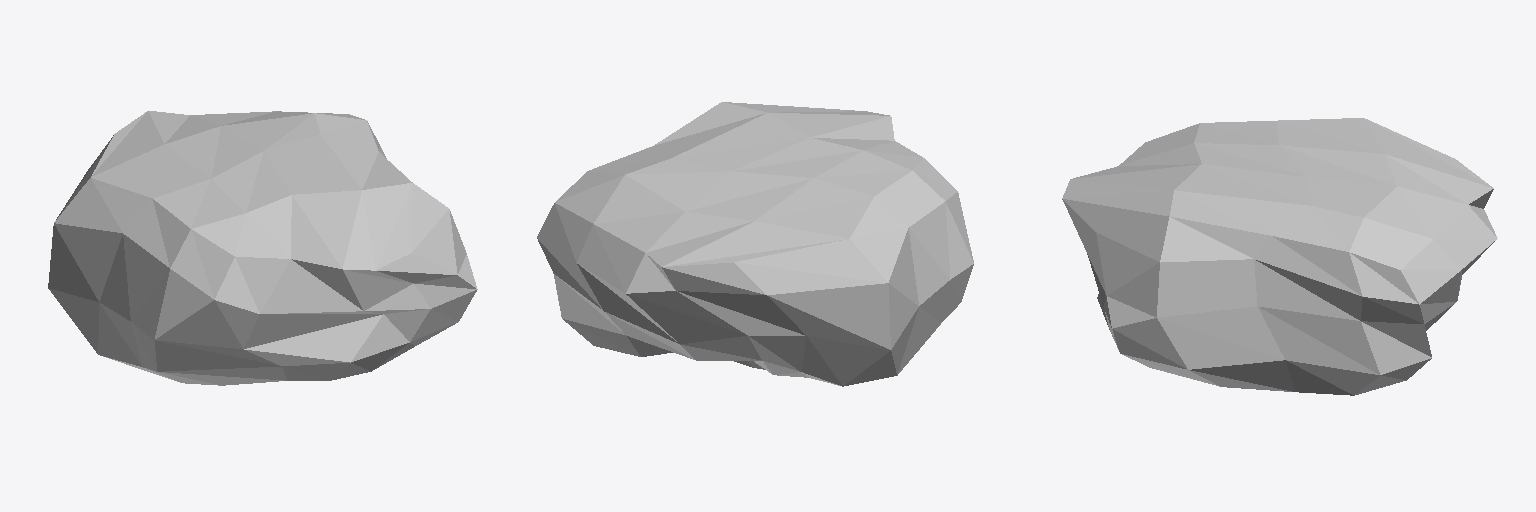
File: rock.obj
3 renders of one model, left to right at view 1: azimuth 30°, elevation 25°; view 2: azimuth 150°, elevation 25°; view 3: azimuth 270°, elevation 25°, orthographic.
Visible parts, largest first — view 1: Cube; view 2: Cube; view 3: Cube.
Boxes of the visible parts, box(x1,y1,x2,y2) form: Cube: box(48, 111, 477, 385); Cube: box(537, 102, 973, 386); Cube: box(1062, 118, 1497, 395).
Bounding box in the file's own units: 0.6367 × 0.3367 × 0.7257.